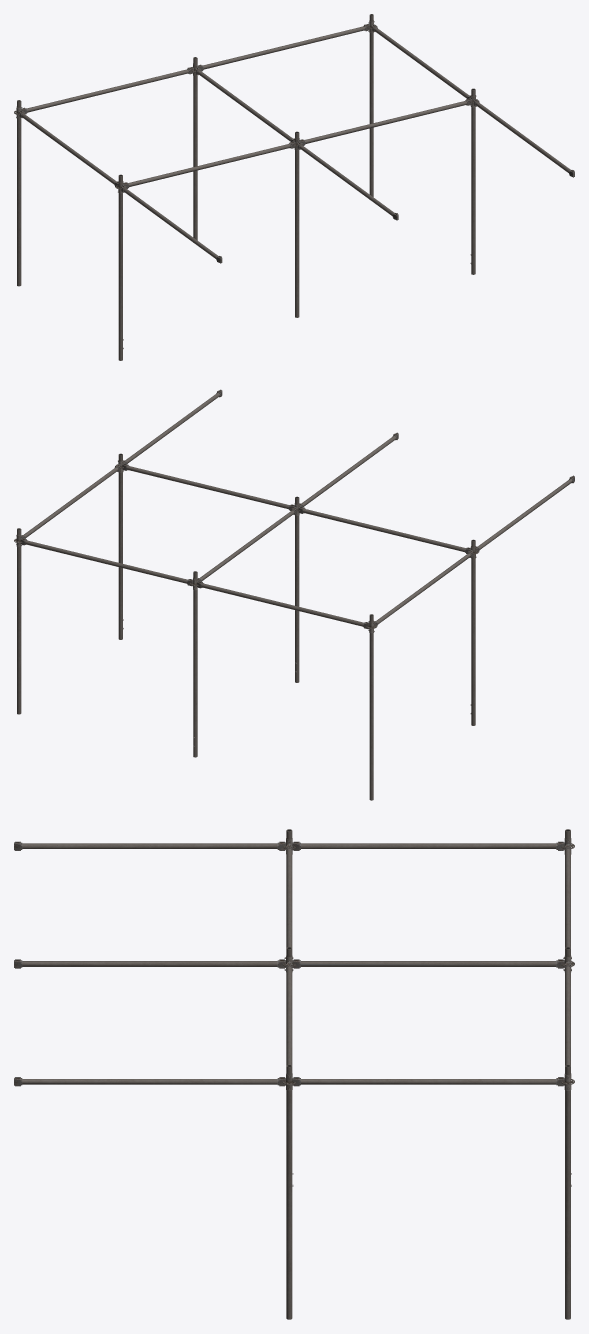
The model's file is scaffold_empty_mid_192.fbx.
3 renders of one model, top to bottom at view 1: azimuth 30°, elevation 25°; view 2: azimuth 150°, elevation 25°; view 3: azimuth 270°, elevation 25°, orthographic. The views are drawn at different scales.
Visible parts, largest first — view 1: scaffold_empty_mid_192; view 2: scaffold_empty_mid_192; view 3: scaffold_empty_mid_192.
Part boxes in pixels (bbox=[...]): scaffold_empty_mid_192: bbox=[14, 14, 574, 360]; scaffold_empty_mid_192: bbox=[14, 389, 574, 800]; scaffold_empty_mid_192: bbox=[14, 829, 574, 1319].
Size of the model in its own units: 394 by 192 by 387.
